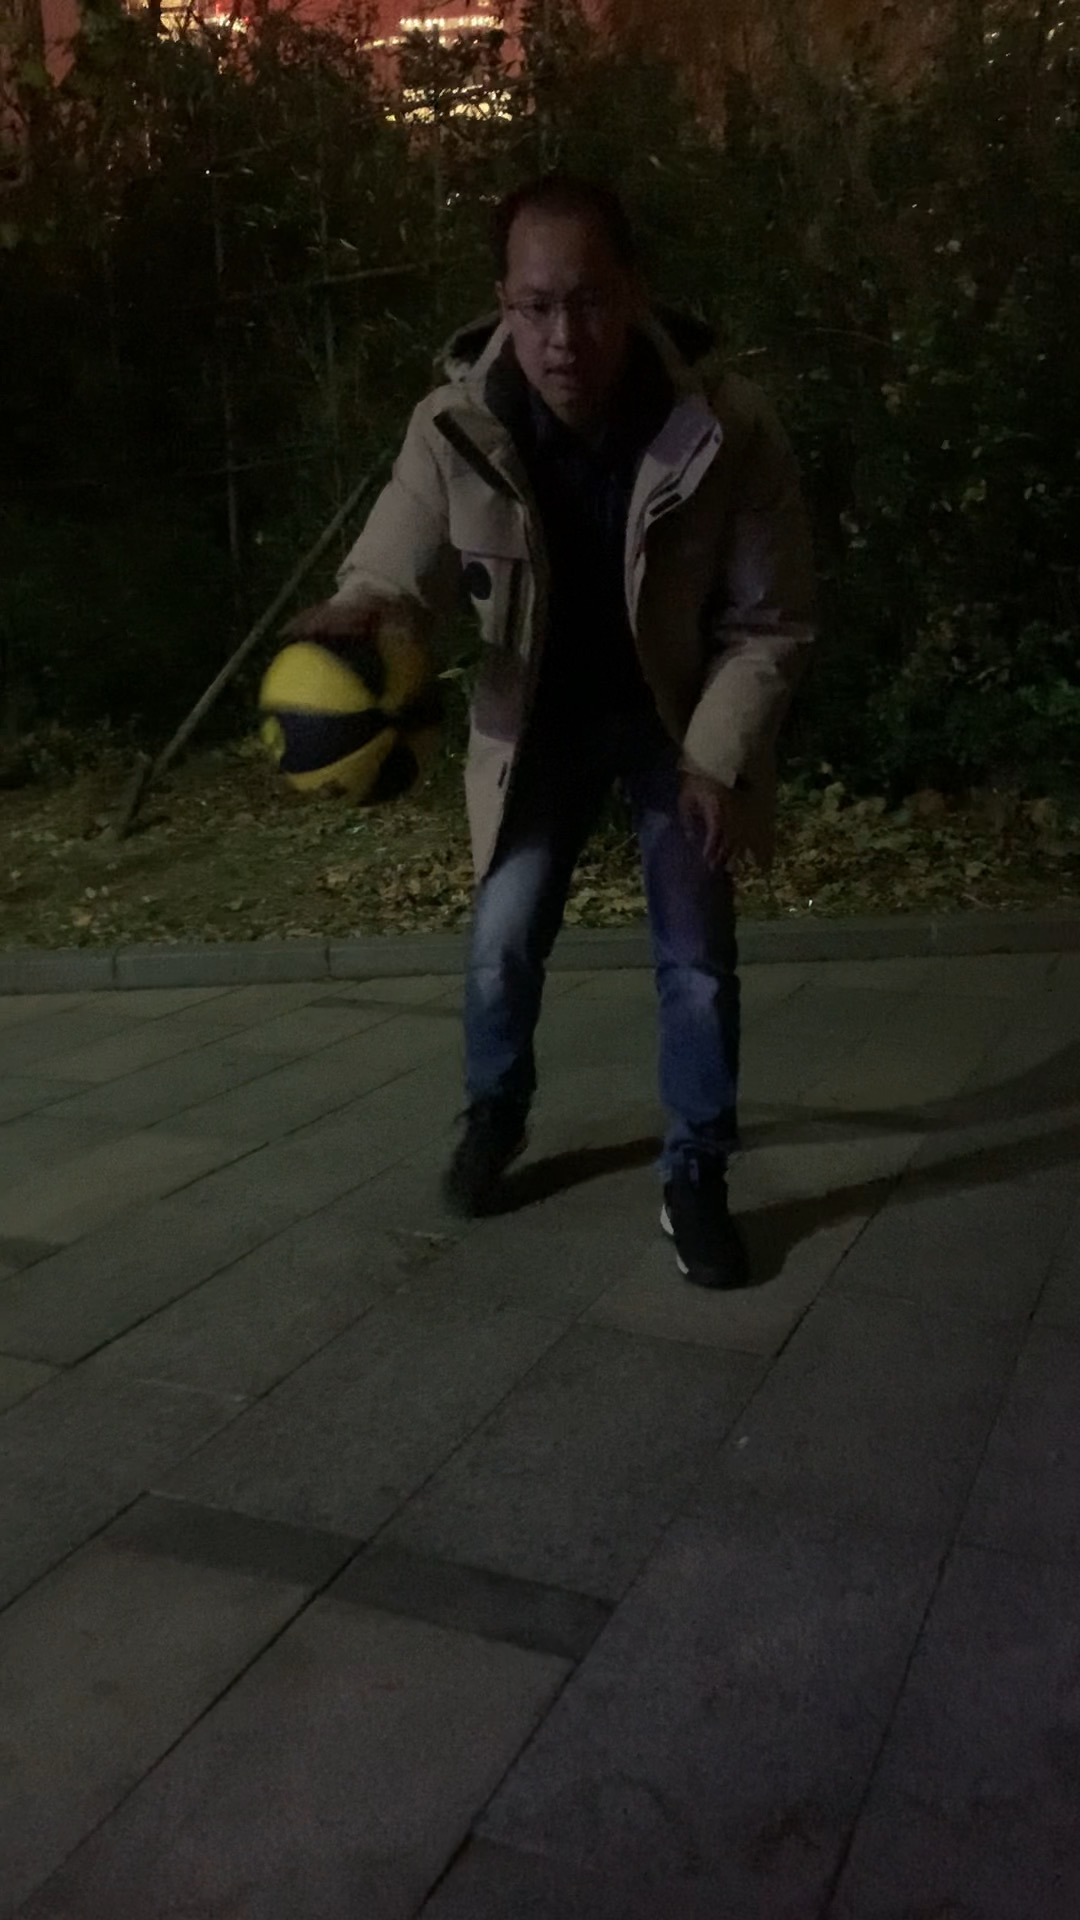ball: (256, 618, 440, 806)
